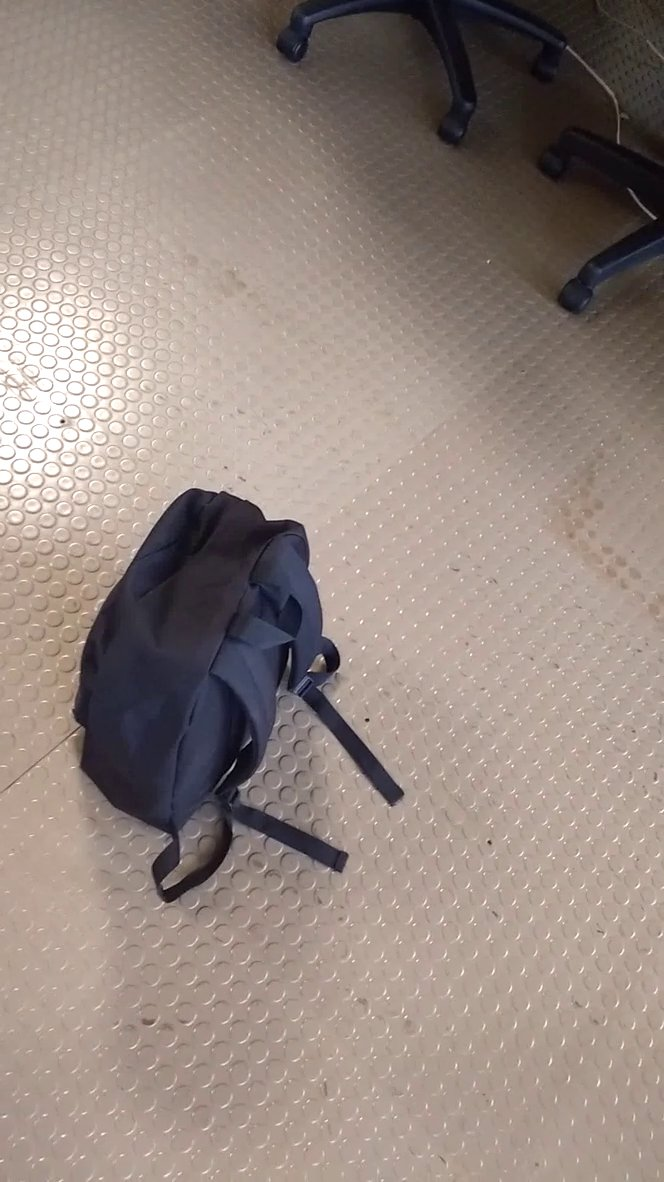bag: (69, 480, 410, 923)
